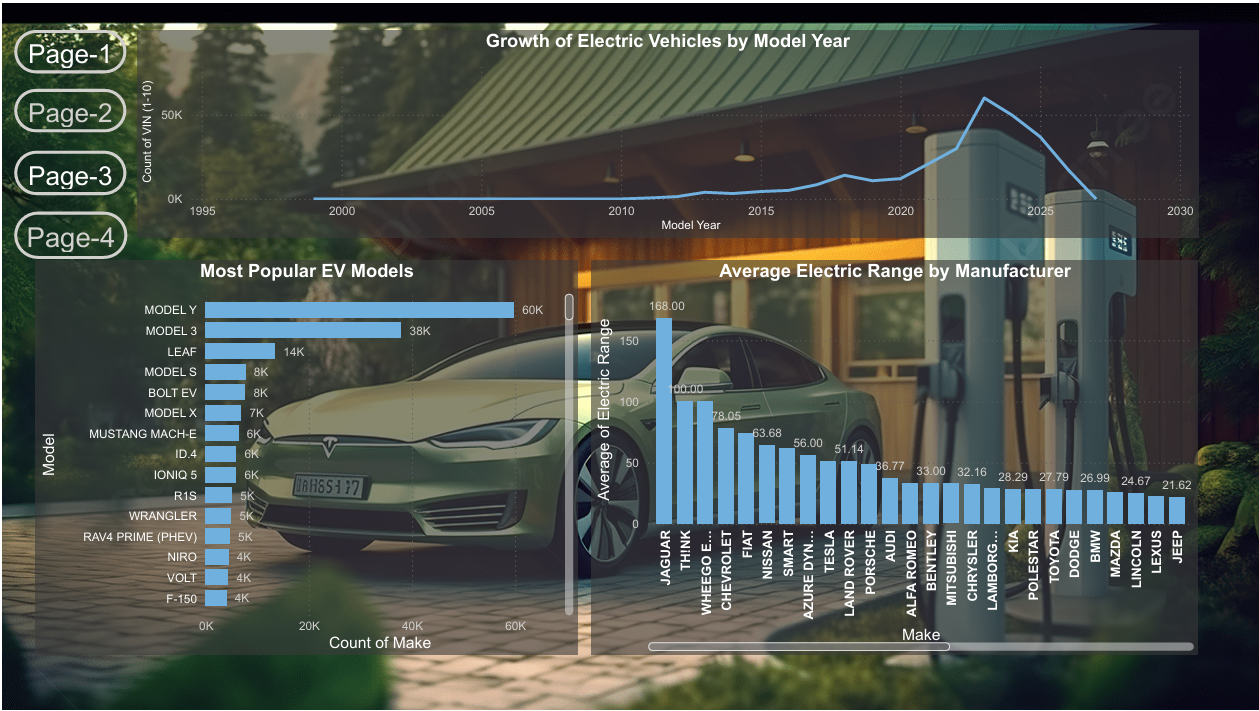

The dashboard page shown, as its layout file describes it:
{"tool":"powerbi","page":{"name":"Page 2","canvas":[1280,720],"ordinal":1},"visuals":[{"type":"lineChart","title":"Growth of Electric Vehicles by Model Year","fields":{"Category":["cleaned_ev_data.Model Year"],"Y":["CountNonNull(cleaned_ev_data.VIN (1-10))"]},"box":[136.7,27.3,1081.8,210.2],"z":0},{"type":"clusteredBarChart","title":"Most Popular EV Models","fields":{"Y":["CountNonNull(cleaned_ev_data.Make)"],"Category":["cleaned_ev_data.Model"]},"box":[33.6,262,552.7,401.5],"z":1000},{"type":"columnChart","title":"Average Electric Range by Manufacturer","fields":{"Category":["cleaned_ev_data.Make"],"Y":["Avg(cleaned_ev_data.Electric Range)"]},"box":[599.7,262,618.2,401.5],"z":2000},{"type":"actionButton","title":"Page-2","box":[12,87.2,114.5,44],"z":3000},{"type":"actionButton","box":[12,150.4,114.5,44.4],"z":4000},{"type":"actionButton","box":[12,27.3,114.5,44],"z":5000},{"type":"actionButton","box":[11.7,211.7,115,48.3],"z":6000}]}

Visuals, with their boxes in screenshot pixels (x1, y1, x2, y2), scaled from the page's 1280x720 canvas onto the 1259x711 screenshot:
"Growth of Electric Vehicles by Model Year" lineChart: bbox(134, 27, 1199, 235)
"Most Popular EV Models" clusteredBarChart: bbox(33, 259, 577, 655)
"Average Electric Range by Manufacturer" columnChart: bbox(590, 259, 1198, 655)
"Page-2" actionButton: bbox(12, 86, 124, 130)
actionButton: bbox(12, 149, 124, 192)
actionButton: bbox(12, 27, 124, 70)
actionButton: bbox(12, 209, 125, 257)
